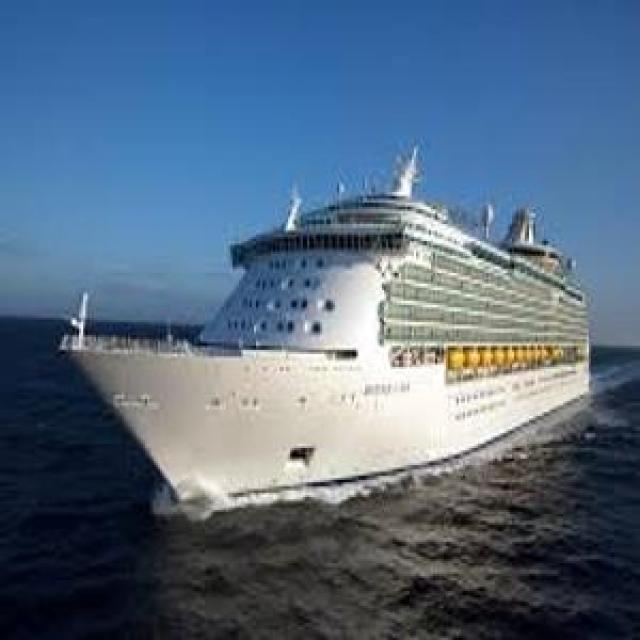passenger ship: (62, 165, 599, 488)
